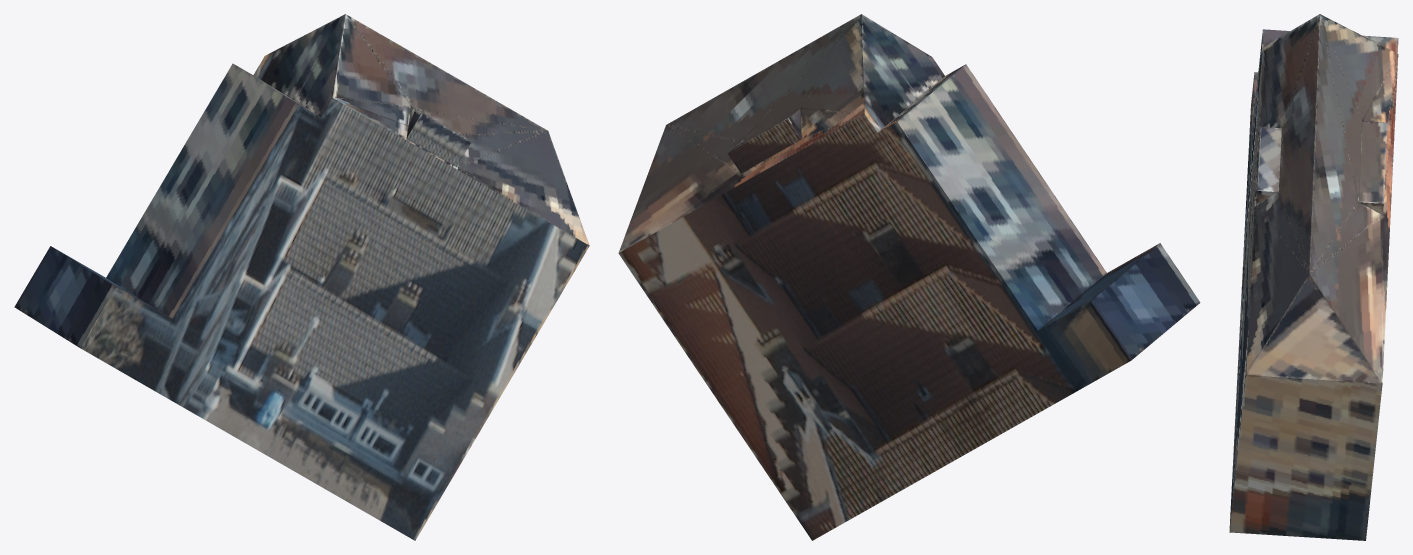
3 views of the same model, side by side, from view 1: azimuth 30°, elevation 25°; view 2: azimuth 150°, elevation 25°; view 3: azimuth 270°, elevation 25° (orthographic).
Parts seen in each view (by area): view 1: BAG_0599100000671619 (×6); view 2: BAG_0599100000671619 (×5); view 3: BAG_0599100000671619 (×6).
Part boxes in pixels (x1,y1,x2,y2): BAG_0599100000671619 (×6): (14,14,589,540); BAG_0599100000671619 (×5): (618,14,1200,540); BAG_0599100000671619 (×6): (1229,14,1398,540).
Bounding box in the file's own units: 23.69 × 22.65 × 6.75.
7 materials, 6 textured.
